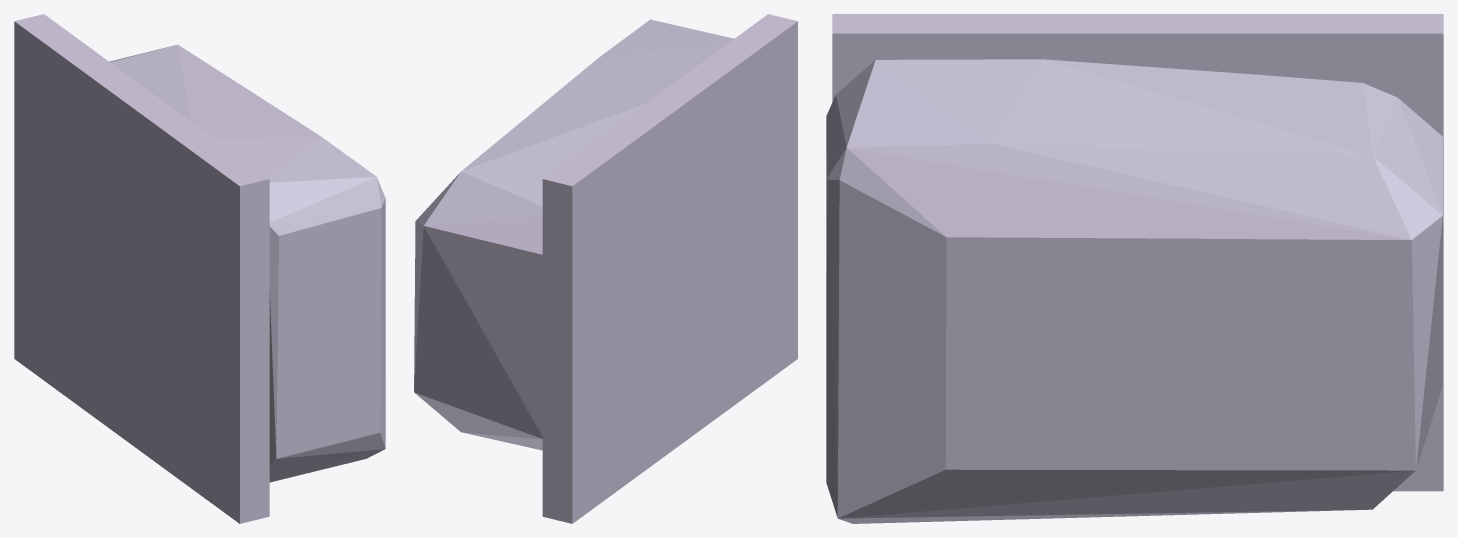
File: dvkr_robot_L3_respondable_PSM2_and_L0_respondable_TOOL2_coll_1.dae
3 views of the same model, side by side, from view 1: azimuth 30°, elevation 25°; view 2: azimuth 150°, elevation 25°; view 3: azimuth 270°, elevation 25° (orthographic). The views are drawn at different scales.
Parts seen in each view (by area): view 1: Node_0000023514CD8050; view 2: Node_0000023514CD8050; view 3: Node_0000023514CD8050.
Boxes of the visible parts, x1=… form: Node_0000023514CD8050: x1=14, y1=14, x2=385, y2=523; Node_0000023514CD8050: x1=414, y1=14, x2=797, y2=523; Node_0000023514CD8050: x1=826, y1=14, x2=1443, y2=523.
Size of the model in its own units: 0.0397 by 0.076 by 0.0929.
